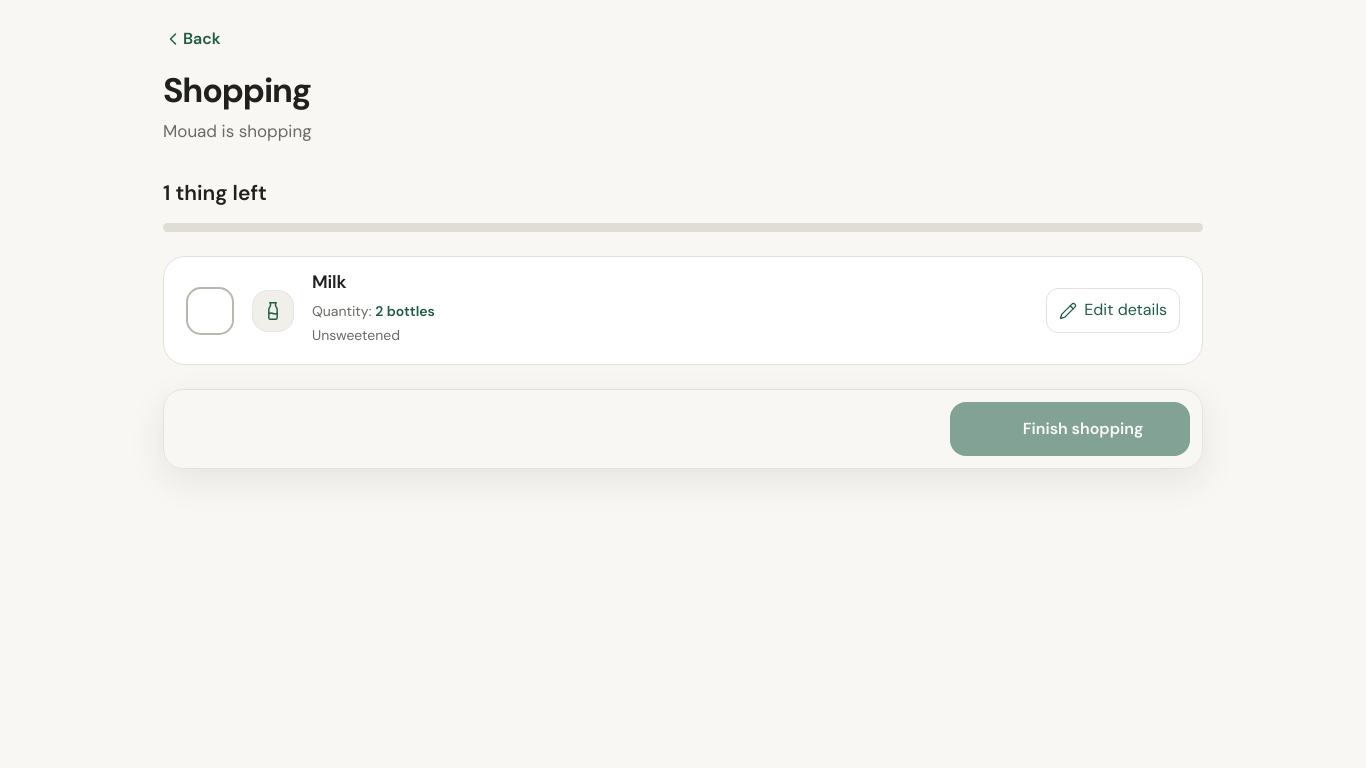
Test: details in household flows › edits Shopping details separately from purchase and refreshes the list after save
Click the button with aria-label "Edit details · Milk".
click(1113, 310)  # box x1=1046 y1=288 x2=1180 y2=333
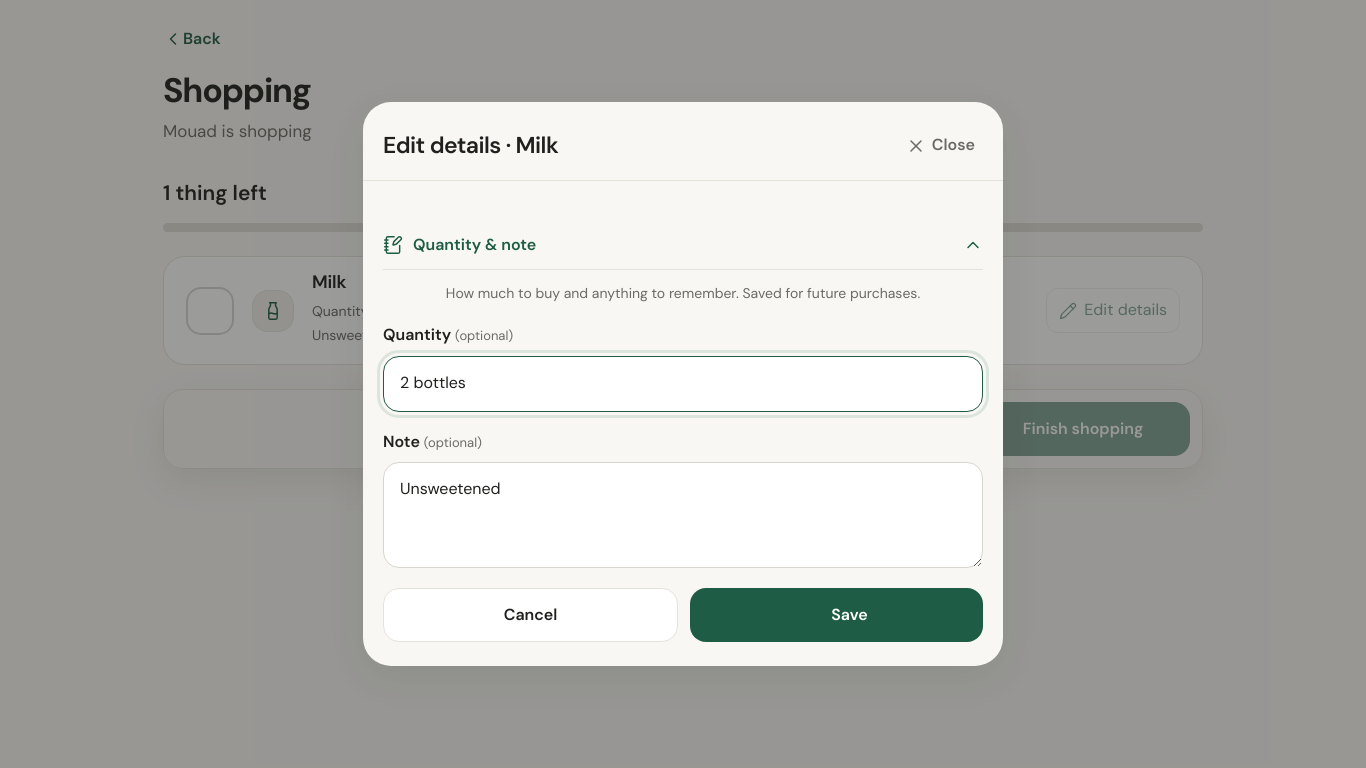
Expected: the checkbox named "Milk" is not checked, x1=186 y1=286 x2=234 y2=334
Expected: the checkbox named "Milk" is disabled, x1=186 y1=286 x2=234 y2=334
Replace the text in the text box labelled "Note (optional)" with "The usual brand" at (683, 515), box x1=383 y1=462 x2=983 y2=568
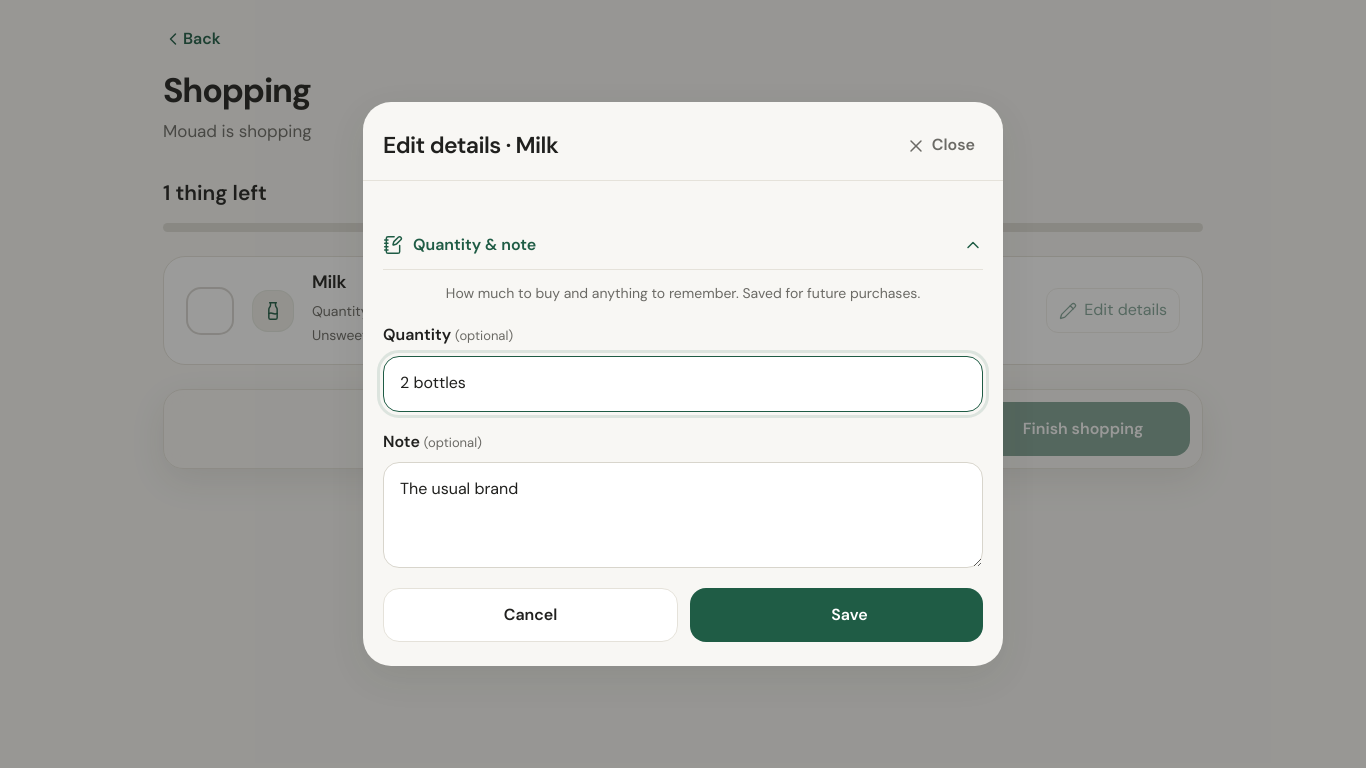
Click the button "Save".
click(836, 615)  # box x1=690 y1=588 x2=983 y2=642
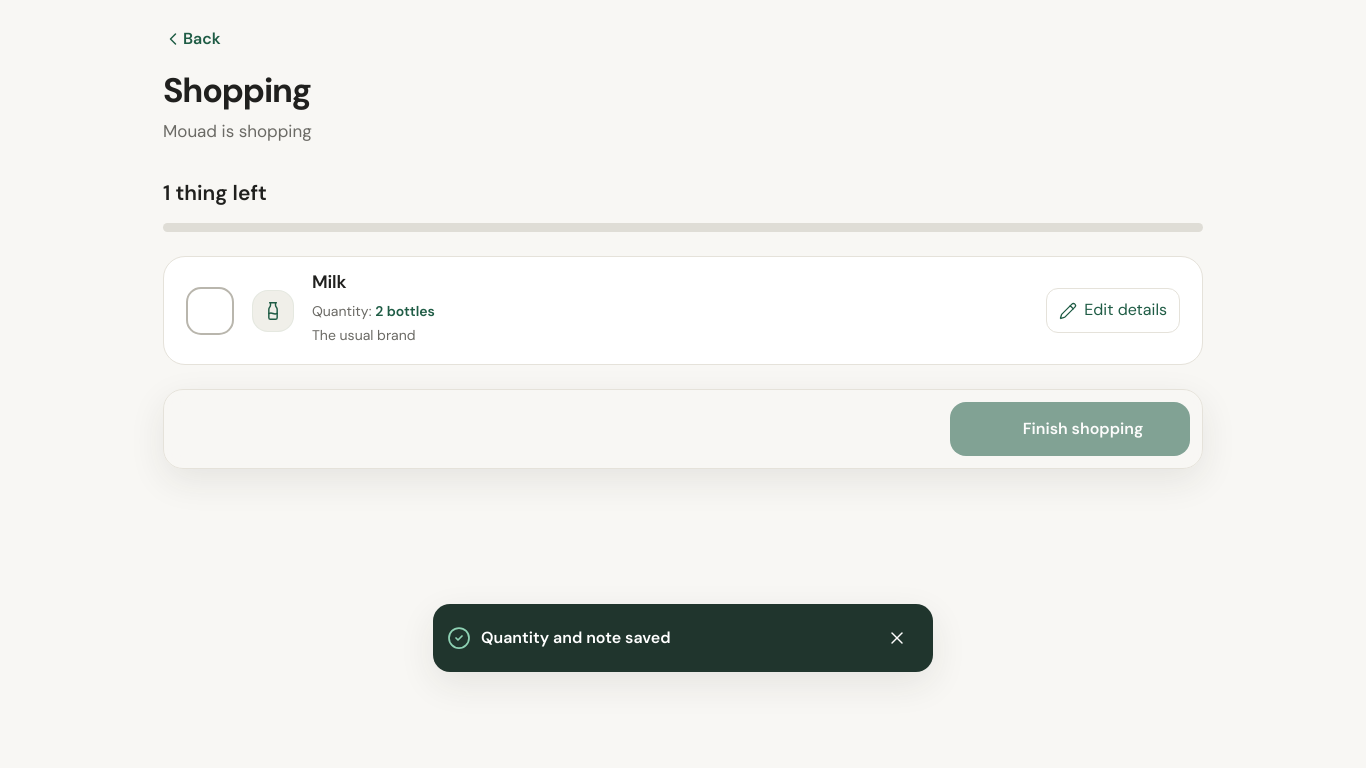
Expected: the checkbox named "Milk" is not checked, x1=186 y1=286 x2=234 y2=334
Expected: the text "The usual brand" is shown, x1=312 y1=326 x2=416 y2=344
